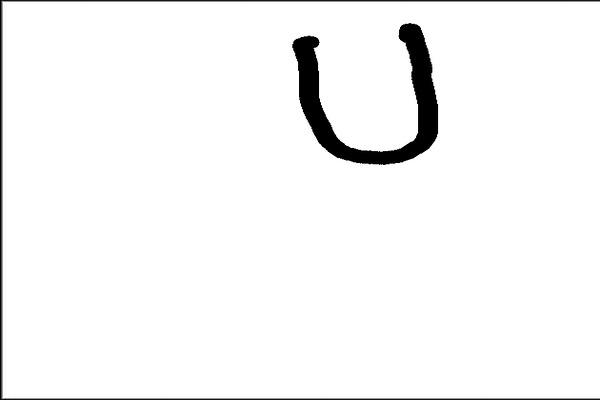U: (283, 18, 446, 168)
